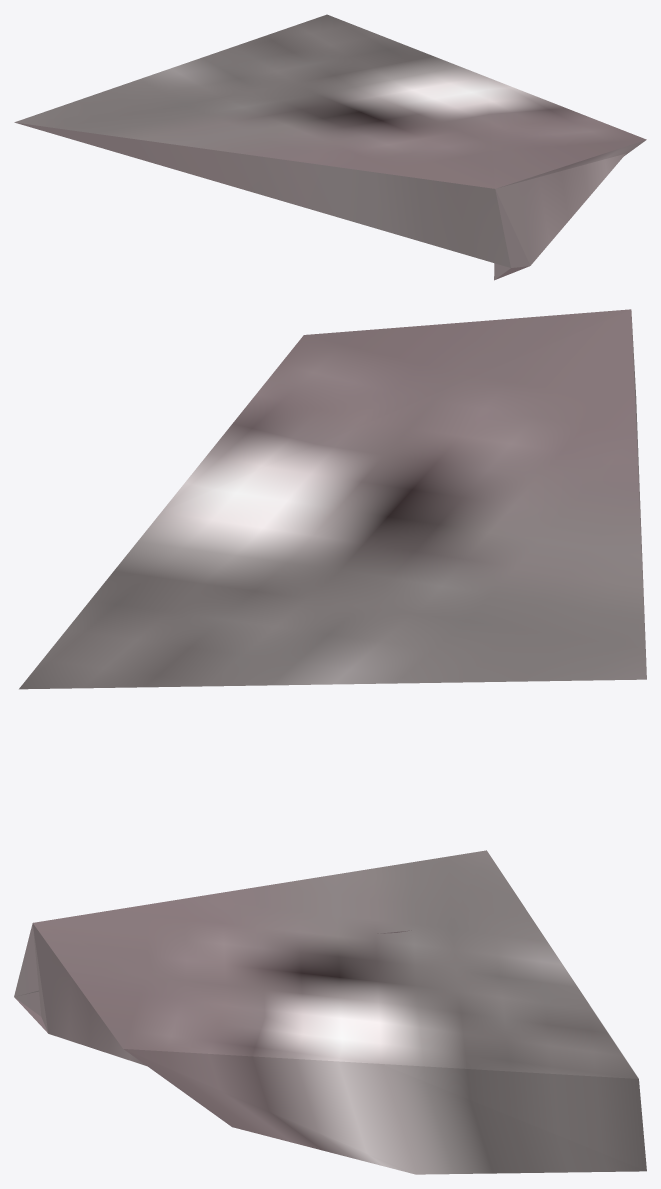
3 views of the same model, one above another, from view 1: azimuth 30°, elevation 25°; view 2: azimuth 150°, elevation 25°; view 3: azimuth 270°, elevation 25° (orthographic). The views are drawn at different scales.
Visible parts, largest first — view 1: Mesh_0; view 2: Mesh_0; view 3: Mesh_0.
Part boxes in pixels (box(x1,y1,x2,y2)): Mesh_0: box(14, 14, 646, 280); Mesh_0: box(19, 309, 646, 689); Mesh_0: box(14, 850, 646, 1174).
Bounding box in the file's own units: 3.43 × 1.37 × 4.37.
Materials: 1 (1 with a texture image).
